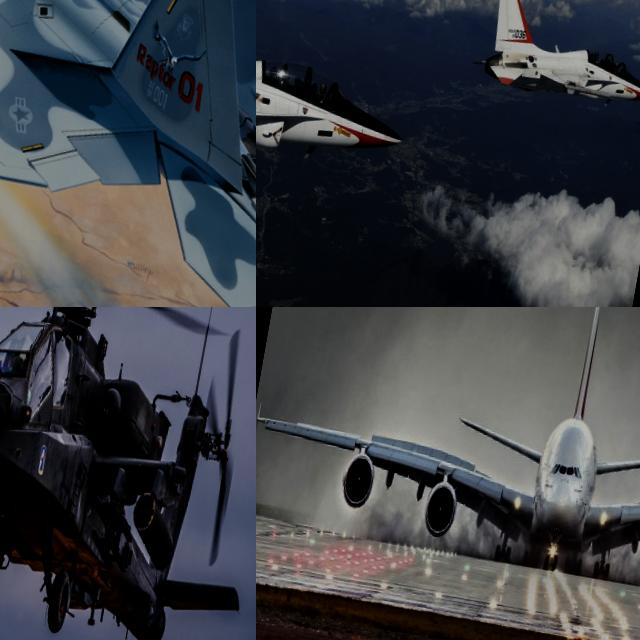A380: (256, 307, 640, 620)
Apache: (0, 307, 256, 640)
F22: (0, 0, 256, 307)
KT-1: (256, 0, 431, 223), (467, 0, 640, 128)
